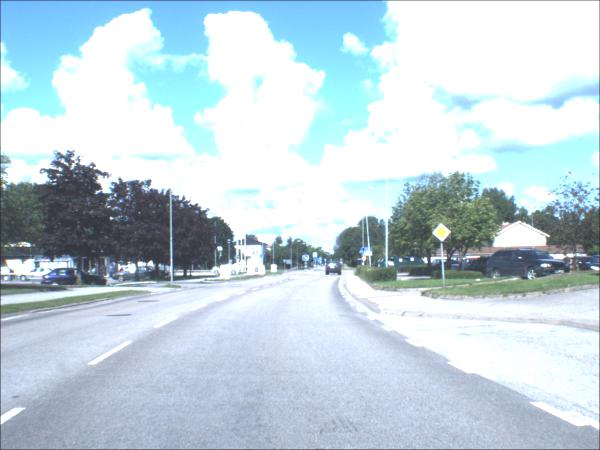50_SIGN: (364, 257, 368, 263)
PASS_RIGHT_SIDE: (303, 256, 311, 263), (313, 259, 319, 263), (318, 260, 321, 263), (321, 262, 323, 265)
PEDESTRIAN_CROSSING: (361, 249, 367, 256), (314, 253, 319, 259), (255, 253, 260, 257), (321, 259, 323, 261)
PRIORITY_ROAD: (434, 223, 454, 244)
